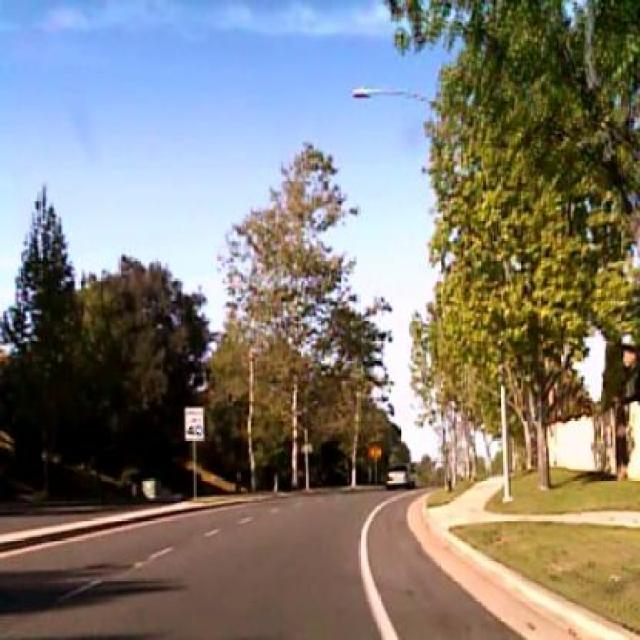speedLimit40: (184, 404, 203, 440)
